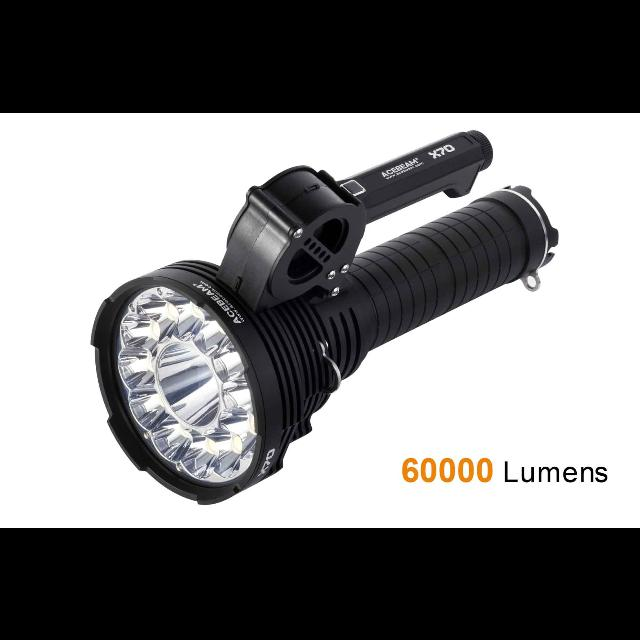Flashlight: (81, 124, 563, 510)
